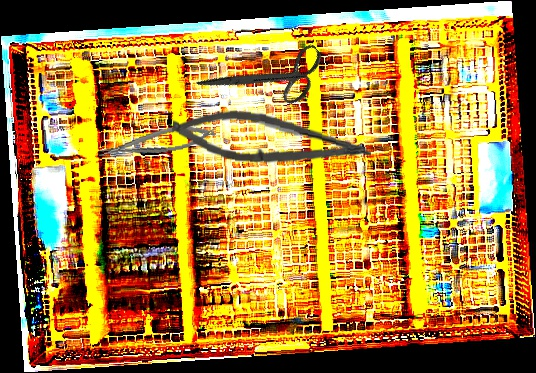Iris Scissors: (195, 9, 336, 145)
Micro Scissor: (170, 105, 374, 172)
Needle Holder: (96, 120, 218, 163)
